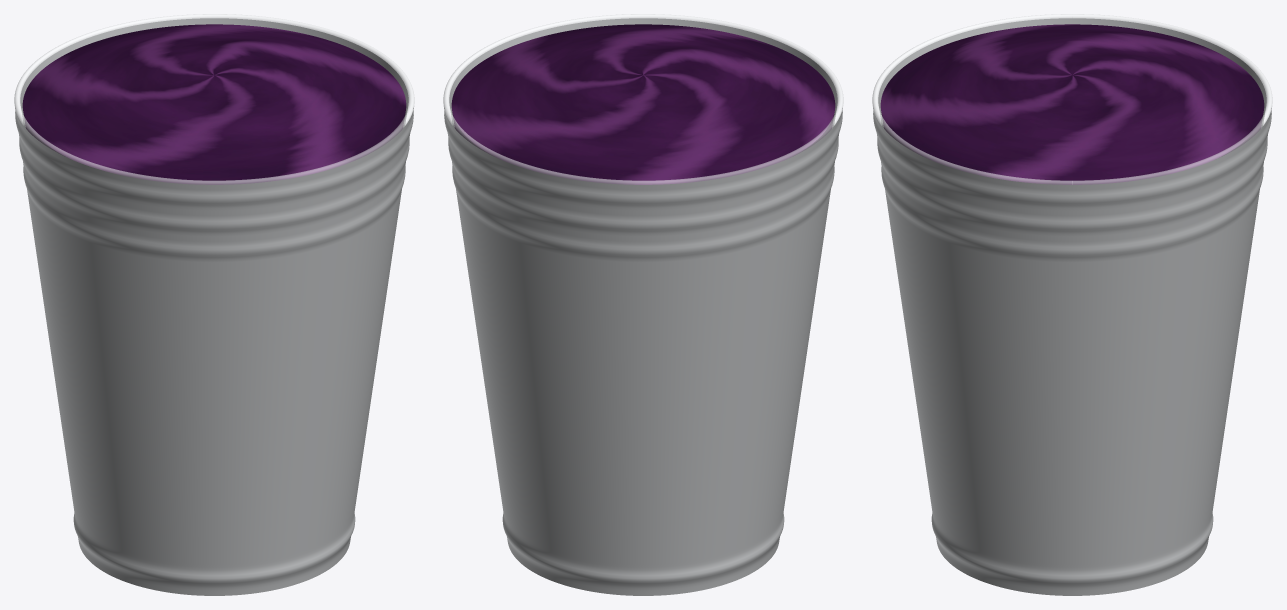
File: acai-pet-700.glb
3 renders of one model, left to right at view 1: azimuth 30°, elevation 25°; view 2: azimuth 150°, elevation 25°; view 3: azimuth 270°, elevation 25°, orthographic.
Visible parts, largest first — view 1: acai-pet-700_1, acai-pet-700_0; view 2: acai-pet-700_1, acai-pet-700_0; view 3: acai-pet-700_1, acai-pet-700_0.
Boxes of the visible parts, x1=… form: acai-pet-700_1: x1=14, y1=14, x2=414, y2=595; acai-pet-700_0: x1=22, y1=24, x2=406, y2=184; acai-pet-700_1: x1=443, y1=14, x2=843, y2=595; acai-pet-700_0: x1=451, y1=24, x2=835, y2=184; acai-pet-700_1: x1=872, y1=14, x2=1272, y2=595; acai-pet-700_0: x1=880, y1=24, x2=1264, y2=184.
Bounding box in the file's own units: 0.106 × 0.1353 × 0.106.
4 materials, 2 textured.
